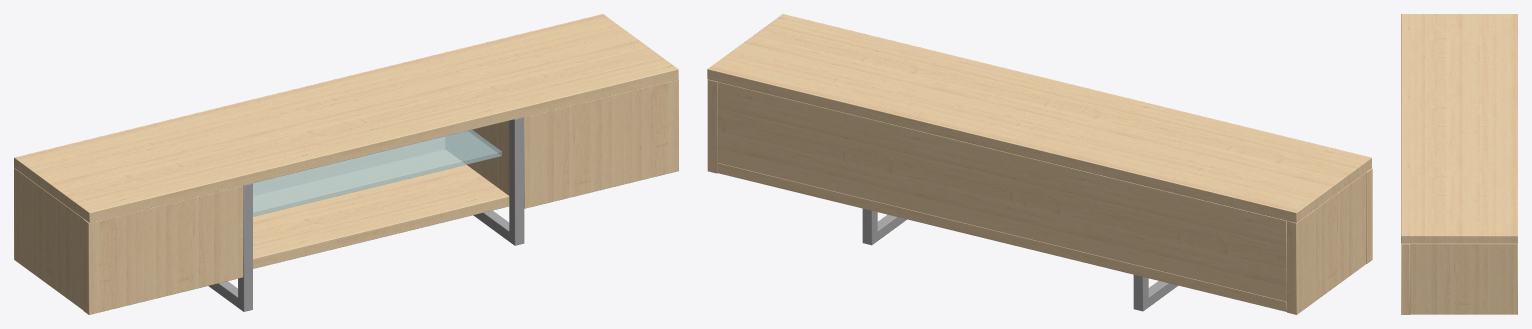
3 views of the same model, side by side, from view 1: azimuth 30°, elevation 25°; view 2: azimuth 150°, elevation 25°; view 3: azimuth 270°, elevation 25° (orthographic). The views are drawn at different scales.
Parts seen in each view (by area): view 1: Node; view 2: Node; view 3: Node.
Boxes of the visible parts, x1,y1,x2,y2 form: Node: (14,14,678,314); Node: (707,14,1372,314); Node: (1401,14,1517,314).
Bounding box in the file's own units: 1.8 × 0.4 × 0.4.
3 materials, 1 textured.
